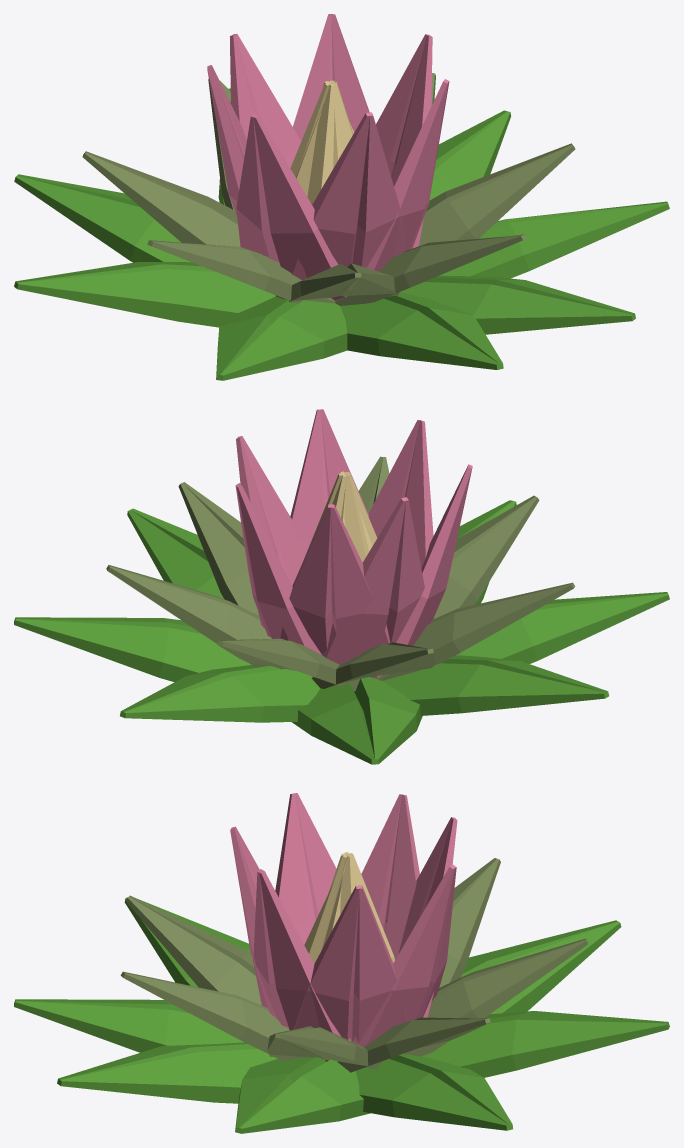
Rendered from flower2.glb.
3 views of the same model, one above another, from view 1: azimuth 30°, elevation 25°; view 2: azimuth 150°, elevation 25°; view 3: azimuth 270°, elevation 25° (orthographic). The views are drawn at different scales.
Visible parts, largest first — view 1: Plane.002, Plane.020, Plane.019, Plane, Plane.001, Plane.007, Plane.006, Plane.003, Plane.013, Plane.010, Plane.018, Plane.017 (+11 smaller); view 2: Plane.002, Plane.005, Plane.004, Plane.021, Plane.015, Plane.003, Plane.001, Plane.008, Plane.009, Plane.016, Plane.012, Plane.013 (+10 smaller); view 3: Plane.004, Plane.017, Plane.007, Plane.005, Plane.006, Plane, Plane.018, Plane.016, Plane.008, Plane.011, Plane.020, Plane.021 (+11 smaller).
Part boxes in pixels (bbox=[...]): Plane.002: bbox=[14, 262, 275, 327]; Plane.020: bbox=[236, 113, 345, 300]; Plane.019: bbox=[291, 112, 406, 280]; Plane: bbox=[340, 292, 503, 369]; Plane.001: bbox=[216, 296, 347, 380]; Plane.007: bbox=[400, 275, 635, 334]; Plane.006: bbox=[439, 201, 669, 278]; Plane.003: bbox=[14, 174, 191, 262]; Plane.013: bbox=[419, 143, 575, 245]; Plane.010: bbox=[82, 151, 240, 246]; Plane.018: bbox=[367, 79, 449, 271]; Plane.017: bbox=[376, 34, 432, 248]; Plane.002: bbox=[382, 655, 609, 715]; Plane.005: bbox=[14, 617, 251, 682]; Plane.004: bbox=[120, 665, 320, 722]; Plane.021: bbox=[322, 497, 424, 664]; Plane.015: bbox=[280, 504, 390, 677]; Plane.003: bbox=[292, 677, 422, 764]; Plane.001: bbox=[456, 592, 669, 663]; Plane.008: bbox=[433, 495, 539, 618]; Plane.009: bbox=[374, 582, 575, 680]; Plane.016: bbox=[235, 483, 321, 676]; Plane.012: bbox=[106, 565, 282, 669]; Plane.013: bbox=[178, 482, 258, 615]; Plane.004: bbox=[422, 1011, 669, 1077]; Plane.017: bbox=[293, 885, 407, 1043]; Plane.007: bbox=[57, 1042, 277, 1103]; Plane.005: bbox=[355, 1054, 512, 1130]; Plane.006: bbox=[235, 1057, 370, 1133]; Plane: bbox=[14, 999, 243, 1052]; Plane.018: bbox=[253, 869, 350, 1061]; Plane.016: bbox=[352, 864, 456, 1046]; Plane.008: bbox=[125, 895, 261, 1005]; Plane.011: bbox=[403, 938, 588, 1056]; Plane.020: bbox=[275, 793, 336, 944]; Plane.021: bbox=[361, 794, 419, 959].
Size of the model in its own units: 0.5711 by 0.2537 by 0.5835.
